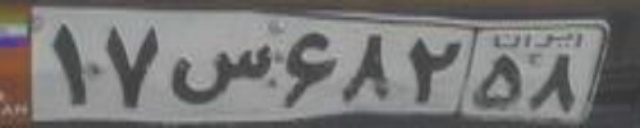1: (47, 24, 91, 105)
2: (406, 39, 461, 103)
5: (471, 53, 521, 111)
6: (285, 31, 334, 107)
7: (101, 21, 158, 110)
8: (341, 34, 389, 102), (527, 52, 575, 112)
sin: (170, 43, 272, 105)
